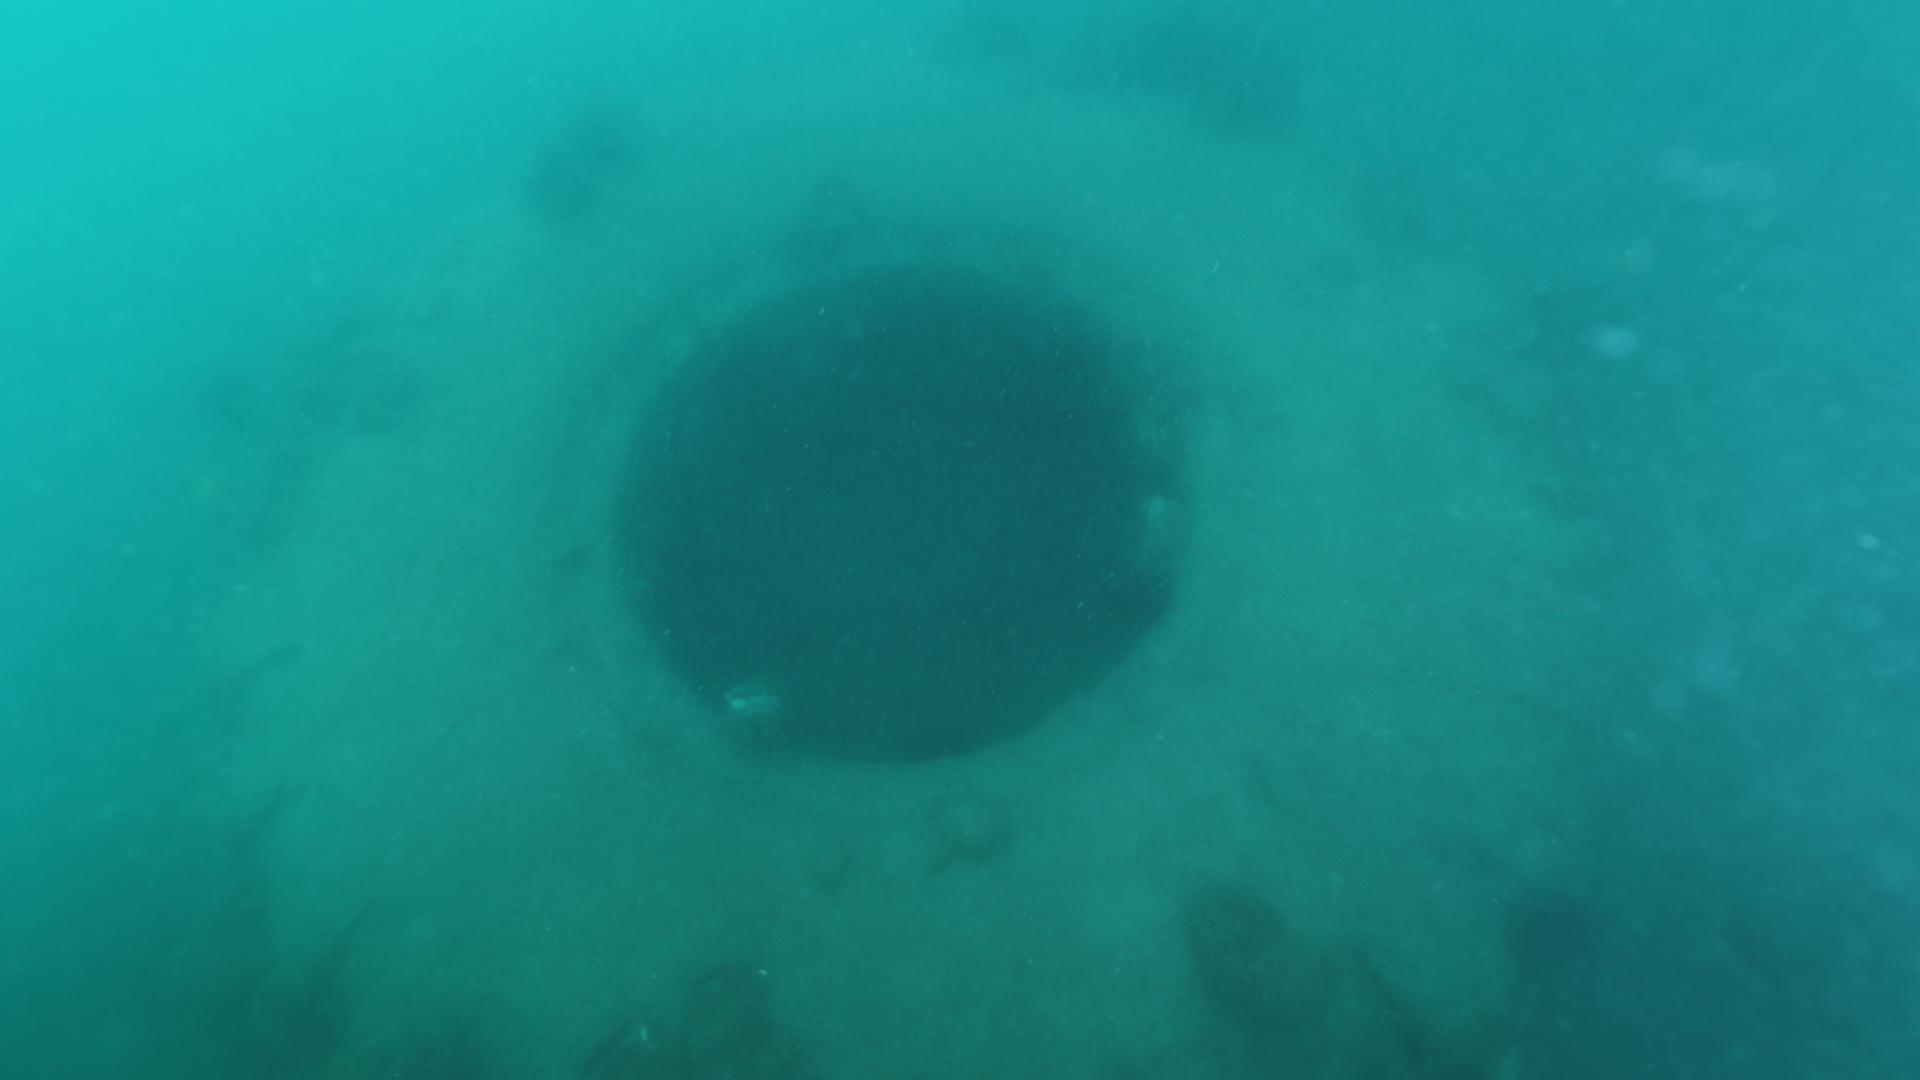tire: (235, 83, 1617, 1080)
